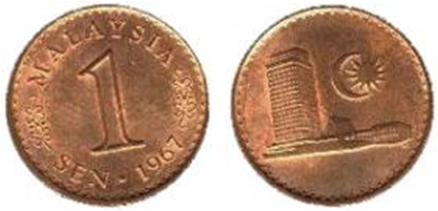1c: (6, 2, 210, 209)
